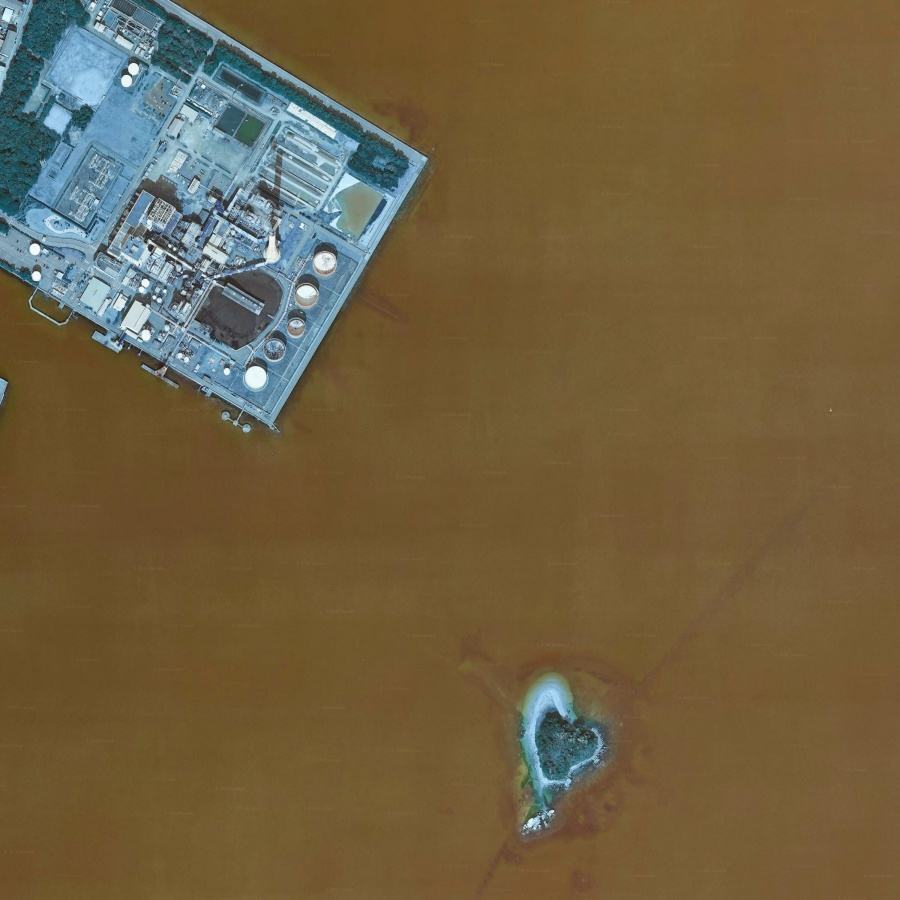PowerPlant: (23, 104, 392, 423)
